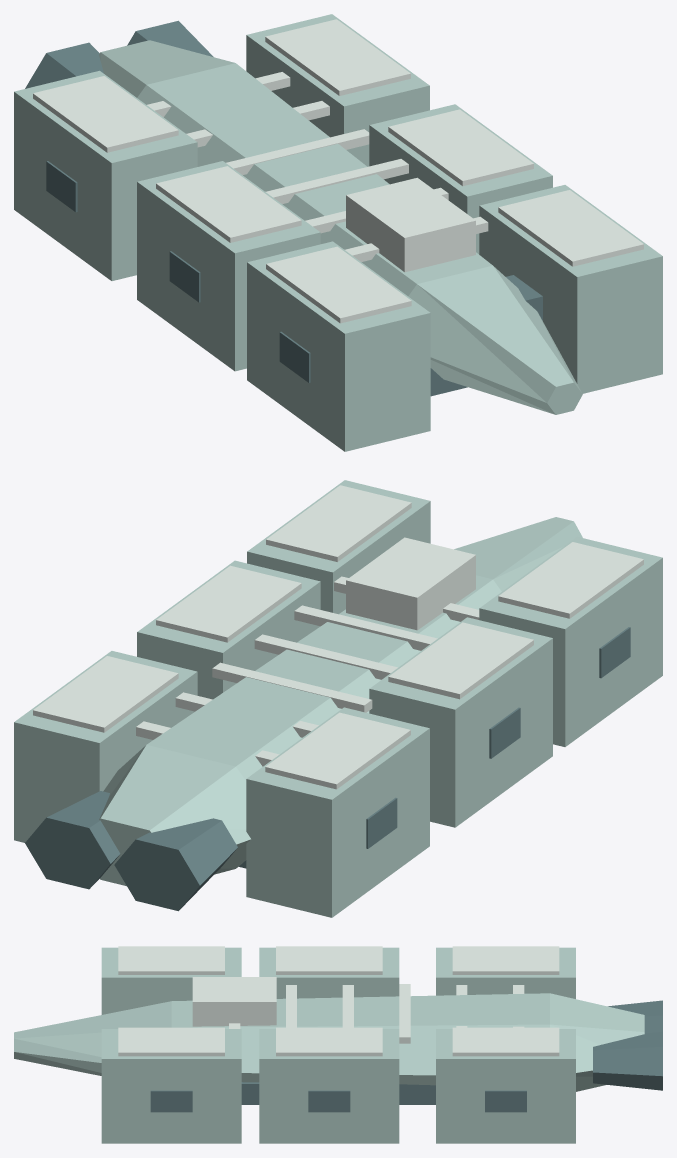
3 renders of one model, top to bottom at view 1: azimuth 30°, elevation 25°; view 2: azimuth 150°, elevation 25°; view 3: azimuth 270°, elevation 25°, orthographic. The views are drawn at different scales.
Bounding box in the file's own units: 4.1 × 1.67 × 10.
